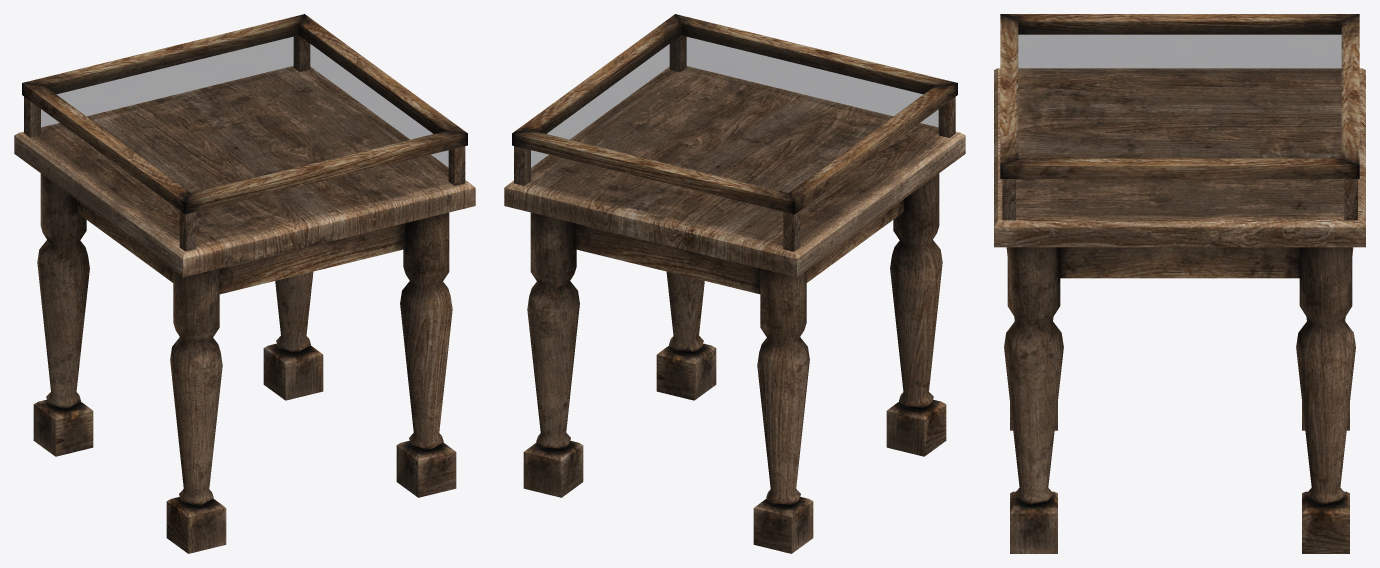
The model's file is display.dae.
3 views of the same model, side by side, from view 1: azimuth 30°, elevation 25°; view 2: azimuth 150°, elevation 25°; view 3: azimuth 270°, elevation 25° (orthographic). The views are drawn at different scales.
Visible parts, largest first — view 1: display, pCube2, pCube1; view 2: display, pCube2, pCube1; view 3: display, pCube2, pCube1.
Boxes of the visible parts, x1,y1,x2,y2 form: display: [14, 14, 475, 553]; pCube2: [41, 36, 448, 176]; pCube1: [41, 36, 448, 175]; display: [504, 14, 965, 553]; pCube2: [531, 36, 938, 177]; pCube1: [531, 36, 938, 175]; display: [994, 14, 1365, 553]; pCube2: [1019, 35, 1340, 73]; pCube1: [1019, 35, 1340, 72].
Bounding box in the file's own units: 0.8 × 0.931 × 0.8.
